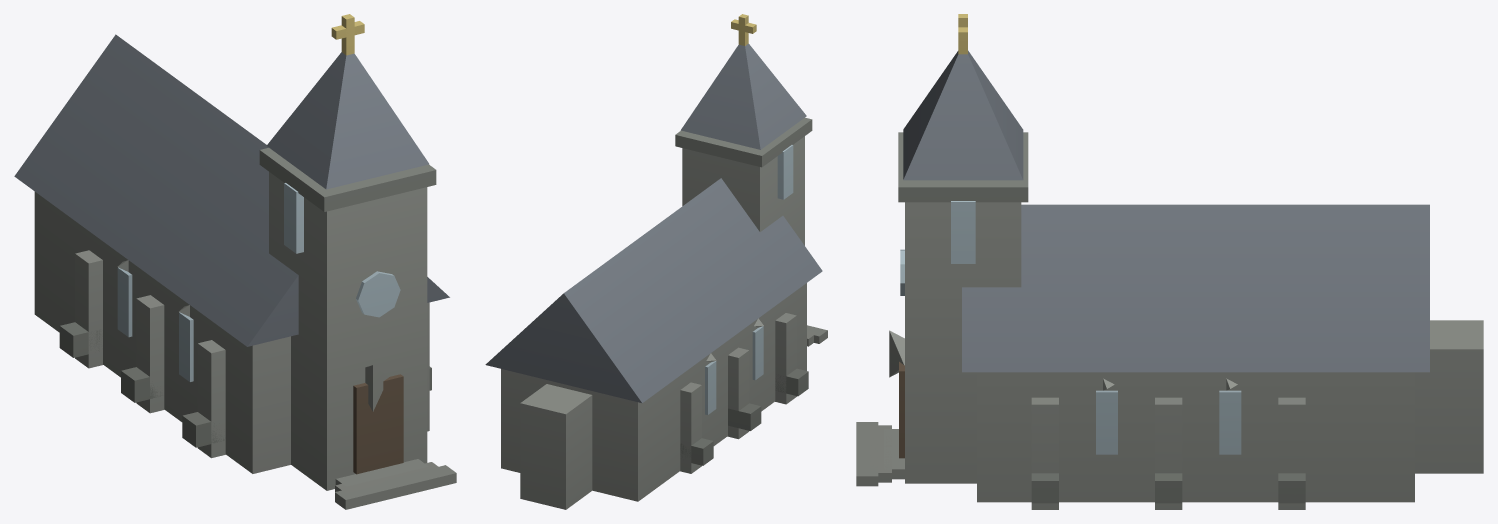
The model's file is church.glb.
The picture shows the model from 3 angles, left to right: view 1: azimuth 30°, elevation 25°; view 2: azimuth 150°, elevation 25°; view 3: azimuth 270°, elevation 25°; orthographic projection. The views are drawn at different scales.
Visible parts, largest first — view 1: church; view 2: church; view 3: church.
Boxes of the visible parts, bbox=[...] form: church: bbox=[14, 14, 456, 509]; church: bbox=[485, 14, 827, 509]; church: bbox=[856, 14, 1483, 509].
Bounding box in the file's own units: 2 × 3.58 × 4.58.
